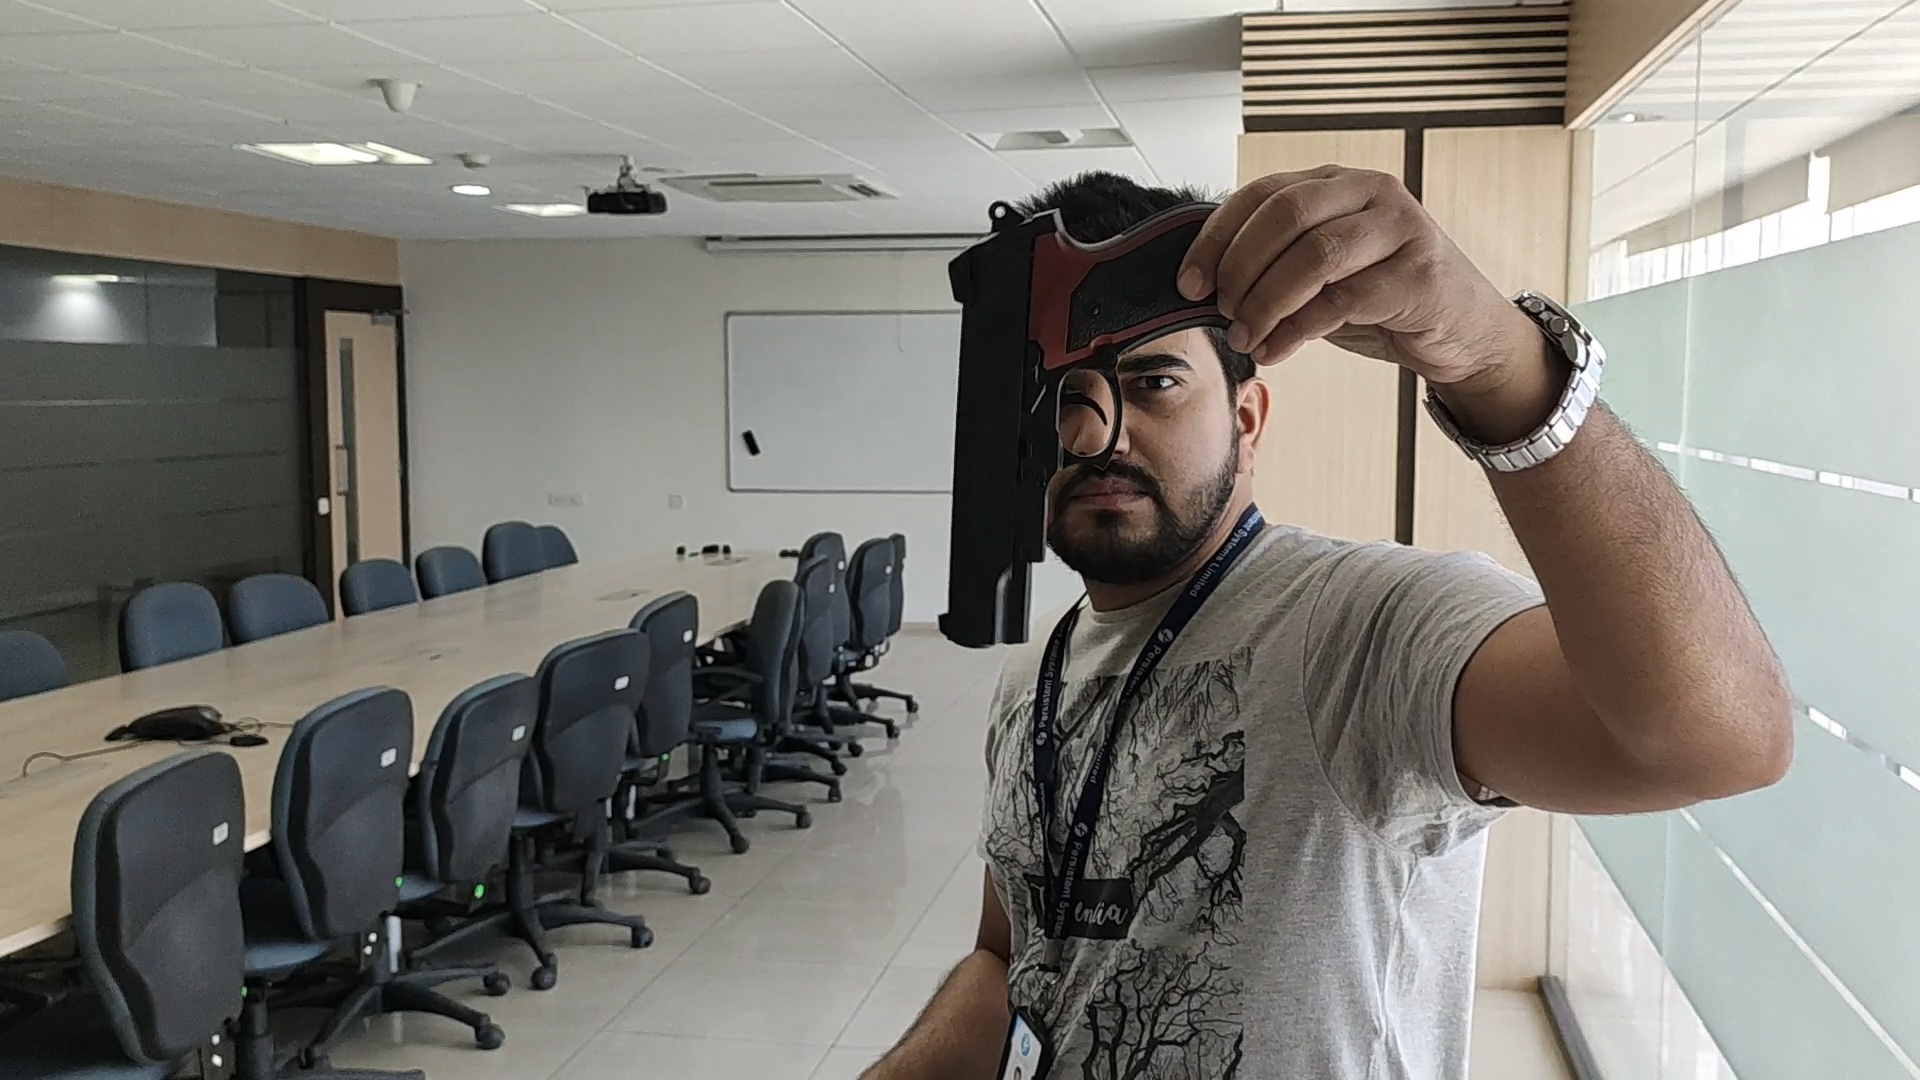gun: (935, 200, 1179, 647)
